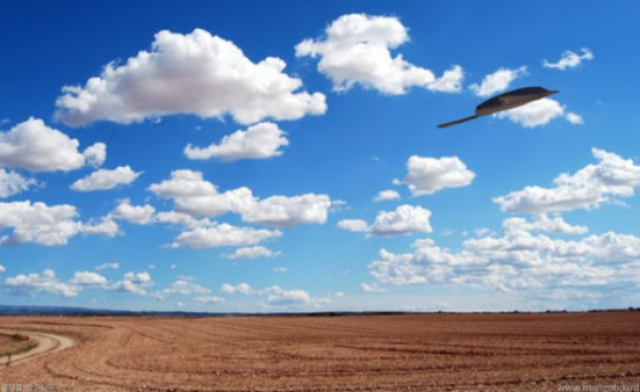military drone: (435, 85, 560, 128)
